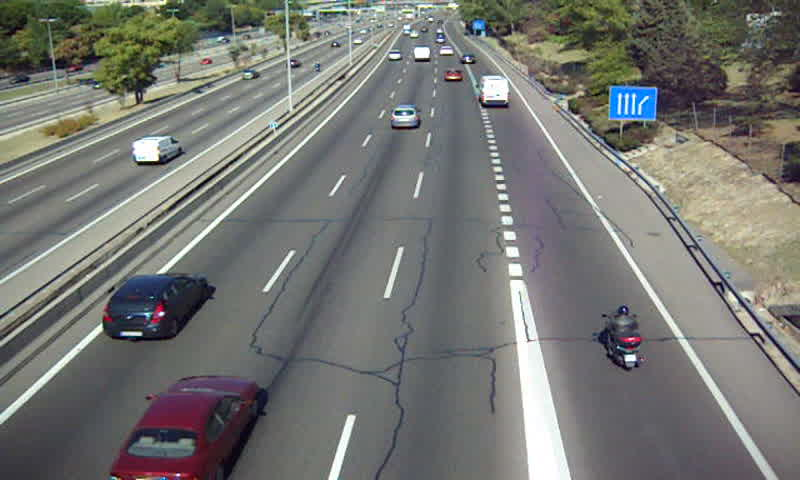car: (110, 376, 259, 480), (101, 272, 206, 339), (388, 105, 420, 131), (441, 66, 463, 83), (460, 51, 478, 65), (439, 44, 454, 57), (388, 49, 402, 62)
motorcycle: (602, 306, 642, 372)
van: (475, 74, 509, 106), (412, 46, 429, 61)
